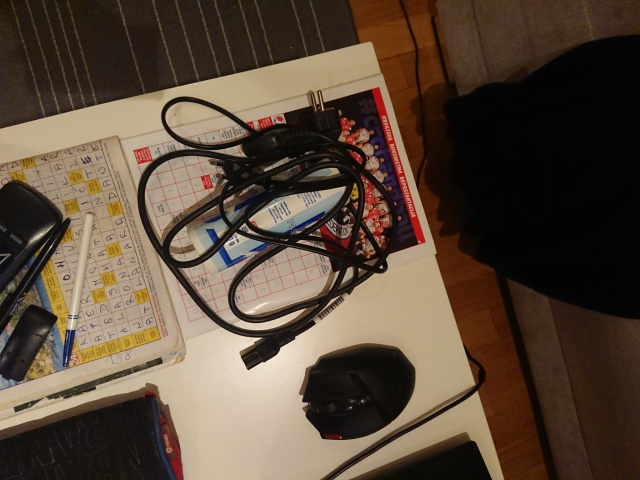Solana Pag Fine Sea Salt 250g: (184, 160, 355, 276)
